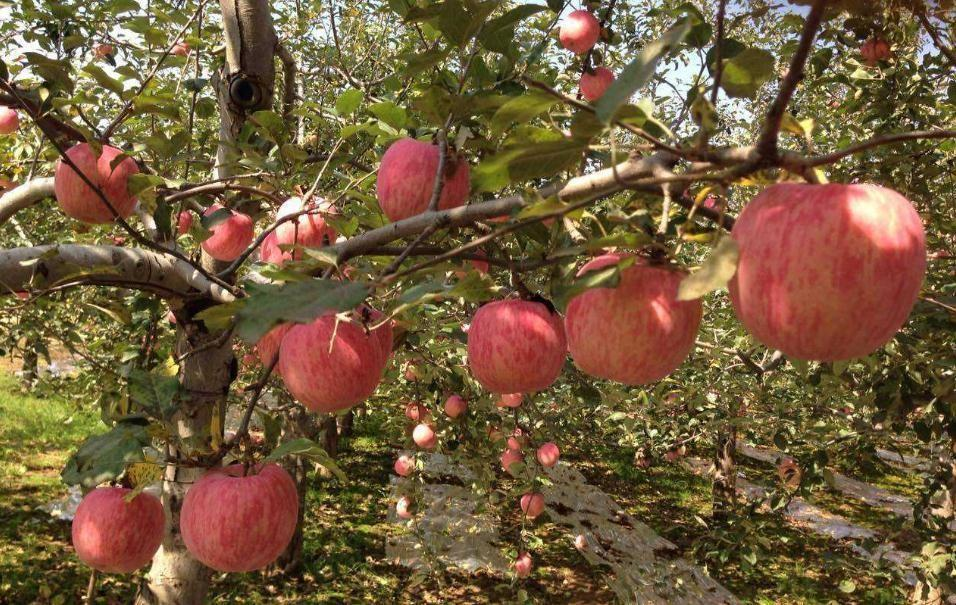apple: (725, 182, 926, 365), (563, 260, 706, 388), (173, 459, 298, 573), (277, 306, 386, 414), (466, 296, 565, 397), (374, 134, 476, 226), (70, 485, 163, 573), (55, 141, 148, 225), (202, 203, 255, 264), (559, 8, 600, 53), (577, 63, 614, 102)
